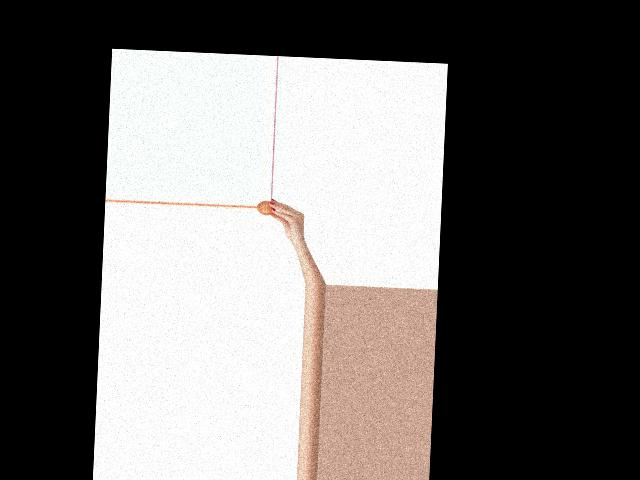egg: (257, 200, 275, 215)
